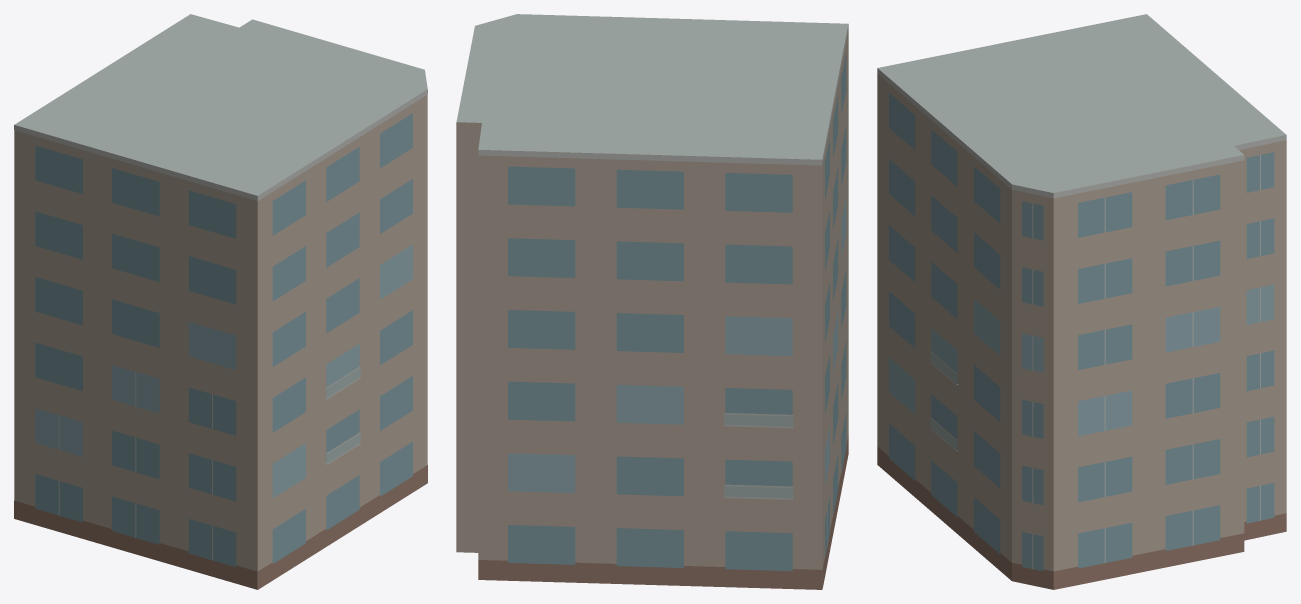
File: survey-upis-32738312.glb
3 views of the same model, side by side, from view 1: azimuth 30°, elevation 25°; view 2: azimuth 150°, elevation 25°; view 3: azimuth 270°, elevation 25° (orthographic). The views are drawn at different scales.
Parts seen in each view (by area): view 1: survey-upis-32738312.tmp; view 2: survey-upis-32738312.tmp; view 3: survey-upis-32738312.tmp.
Boxes of the visible parts, x1,y1,x2,y2 form: survey-upis-32738312.tmp: (14, 14, 427, 589); survey-upis-32738312.tmp: (456, 14, 848, 589); survey-upis-32738312.tmp: (877, 14, 1286, 589).
Size of the model in its own units: 17.73 by 18.3 by 17.11.
